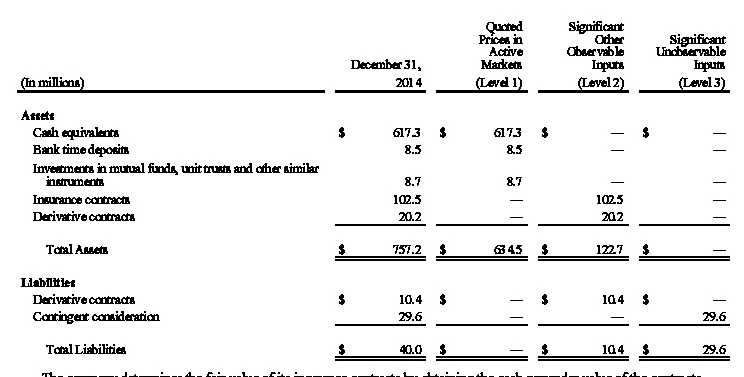table: (0, 0, 744, 377)
